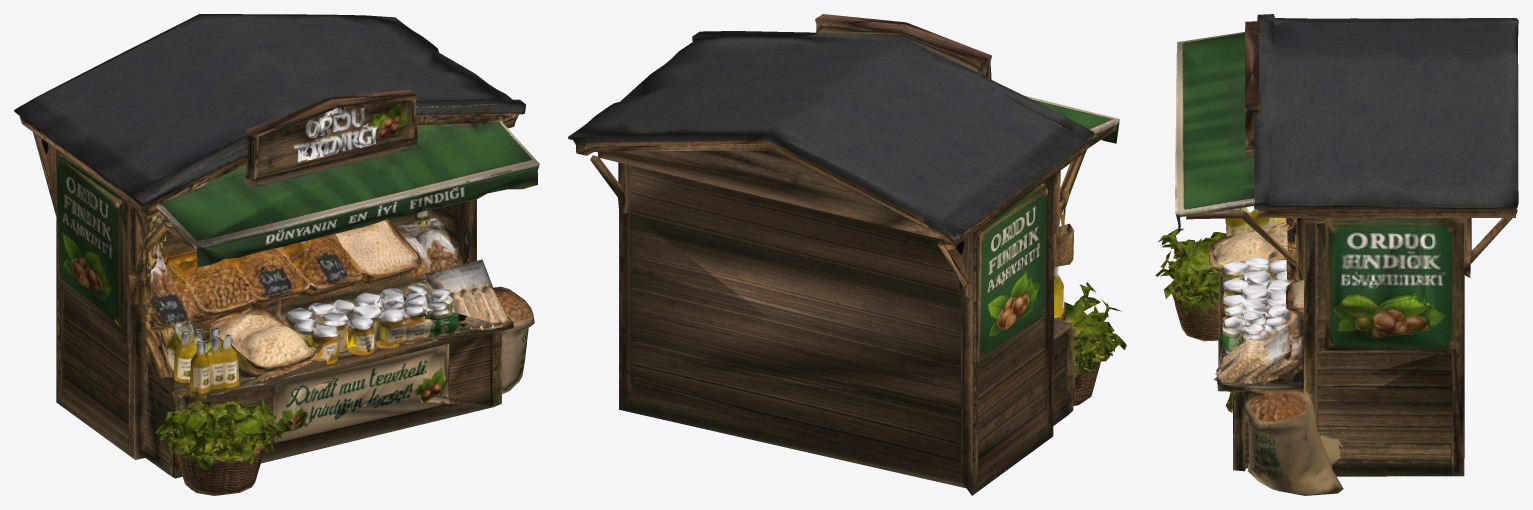
File: city_ordu_hazelnut_stall.glb
3 renders of one model, left to right at view 1: azimuth 30°, elevation 25°; view 2: azimuth 150°, elevation 25°; view 3: azimuth 270°, elevation 25°, orthographic. The views are drawn at different scales.
Parts seen in each view (by area): view 1: Mesh1.0; view 2: Mesh1.0; view 3: Mesh1.0.
Part boxes in pixels (<box>): Mesh1.0: <box>14,14,539,495</box>; Mesh1.0: <box>568,14,1126,495</box>; Mesh1.0: <box>1155,14,1518,495</box>.
Bounding box in the file's own units: 2.49 × 2 × 1.93.
Materials: 1 (1 with a texture image).
